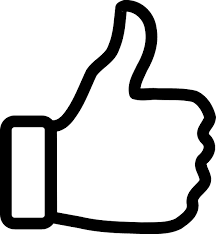thumbs_up: (1, 4, 211, 227)
